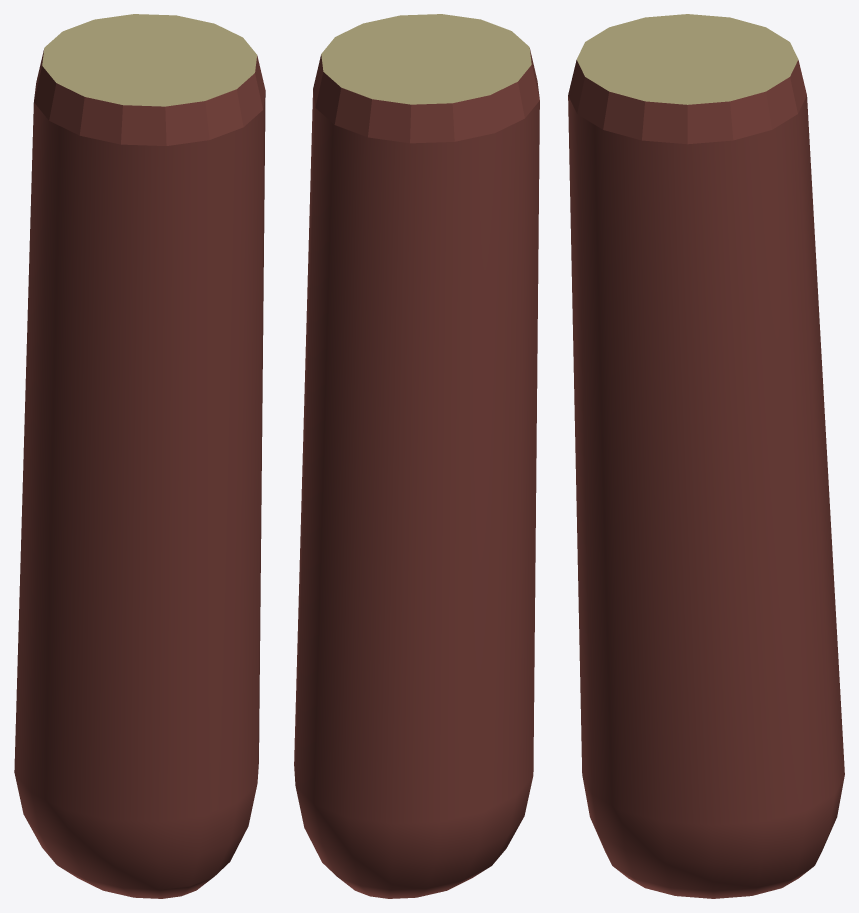
The model's file is Sapling_Stump.fbx.
The picture shows the model from 3 angles, left to right: view 1: azimuth 30°, elevation 25°; view 2: azimuth 150°, elevation 25°; view 3: azimuth 270°, elevation 25°; orthographic projection. The views are drawn at different scales.
Parts seen in each view (by area): view 1: pCylinder1; view 2: pCylinder1; view 3: pCylinder1.
Part boxes in pixels (bbox=[...]): pCylinder1: bbox=[14, 14, 265, 898]; pCylinder1: bbox=[294, 14, 539, 898]; pCylinder1: bbox=[568, 14, 844, 898].
Size of the model in its own units: 0.0708 by 0.2616 by 0.081.
